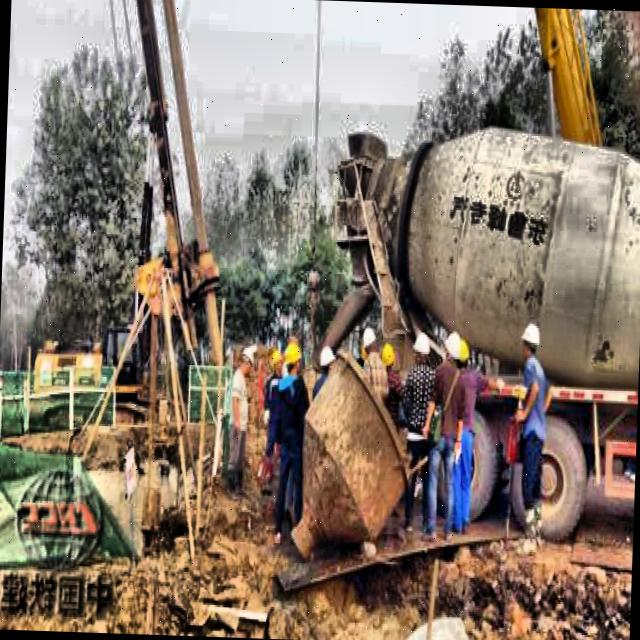helmet: (518, 314, 544, 368), (282, 342, 306, 388), (443, 328, 463, 369), (410, 332, 430, 371), (378, 342, 396, 382), (236, 345, 255, 382), (359, 323, 376, 362), (317, 341, 333, 382), (456, 342, 474, 378)
